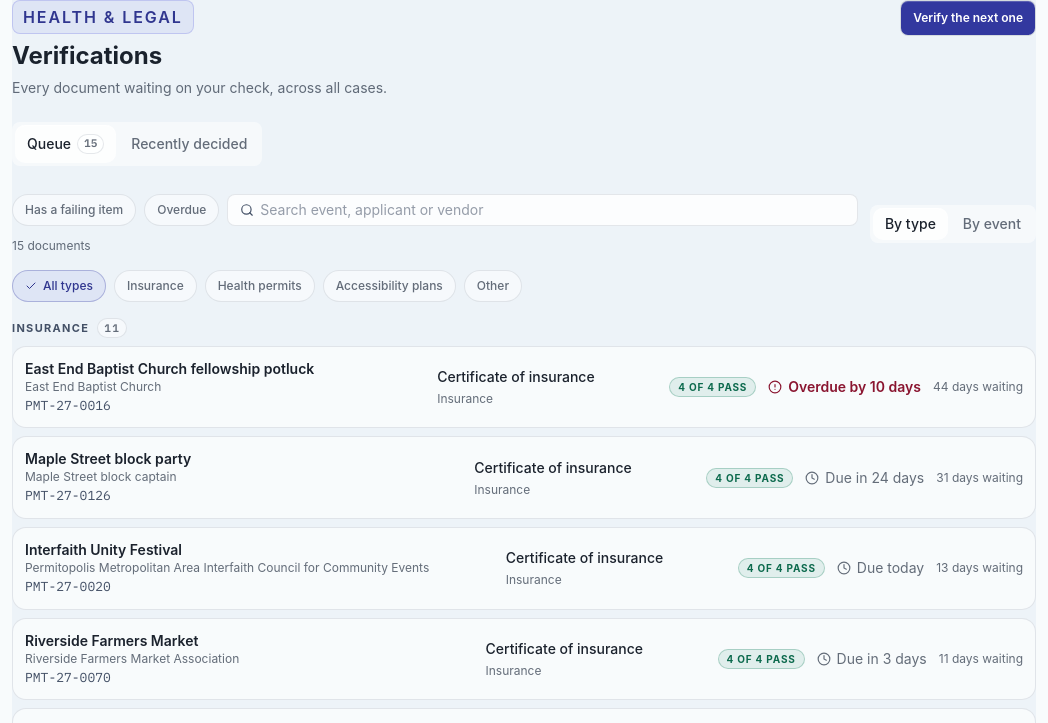
it: Verifications: Recently decided › shows a decided document with who decided it
Click the tab "Recently decided" at (189, 144), box x1=119 y1=125 x2=259 y2=163
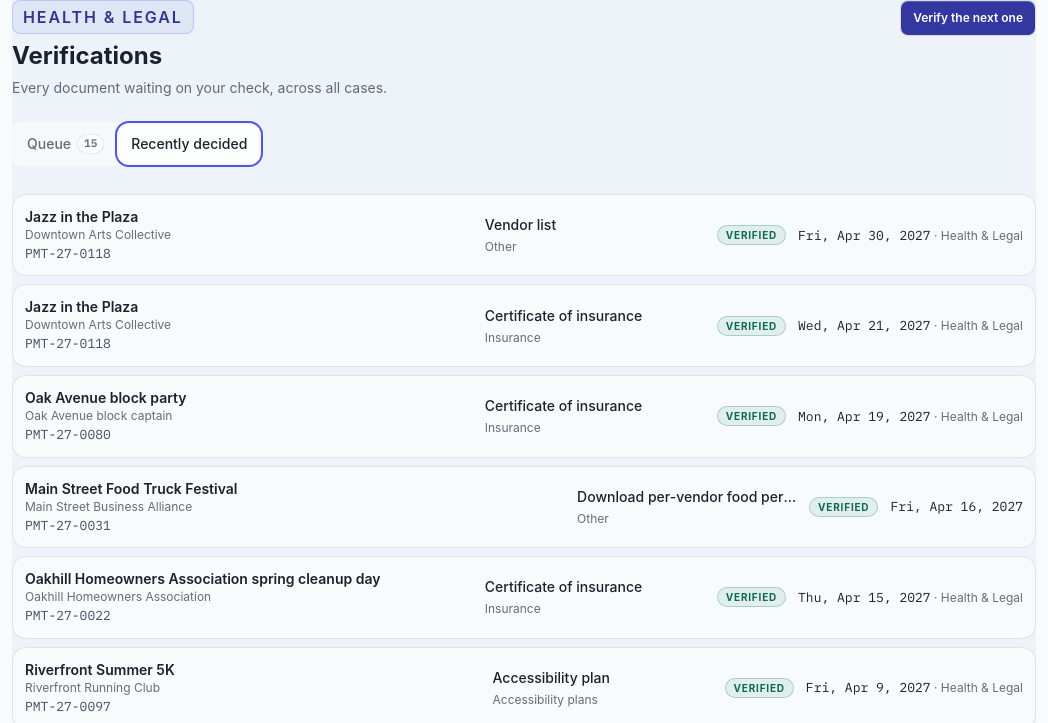
Check: the text "Verified" next to "Fri, Apr 30, 2027" is shown, box x1=726 y1=229 x2=777 y2=241
